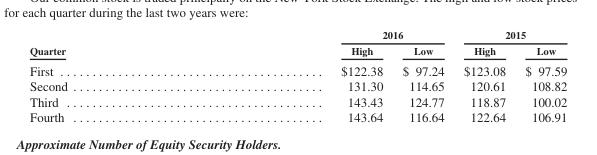table: (28, 28, 566, 123)
table column: (203, 28, 392, 123), (28, 28, 203, 123), (392, 28, 453, 123), (453, 28, 514, 123), (514, 28, 566, 123)
table column header: (28, 28, 566, 59)
table row: (28, 59, 566, 77), (28, 42, 566, 59), (28, 77, 566, 93), (28, 93, 566, 108), (28, 108, 566, 123), (28, 28, 566, 42)
table spanning cell: (28, 28, 203, 59), (203, 28, 453, 42), (453, 28, 566, 42)
